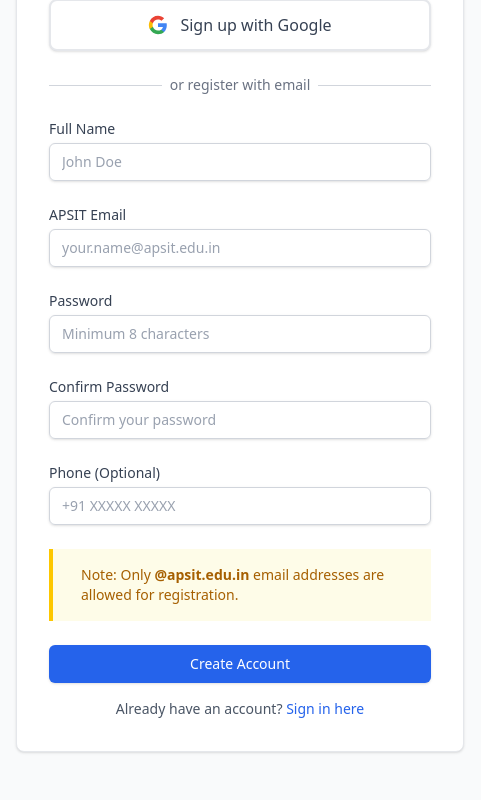
Scenario: Register page › shows validation errors on empty submit
(page scrolled)
Click the button "Create Account" at (240, 664), box [49,645,431,683]
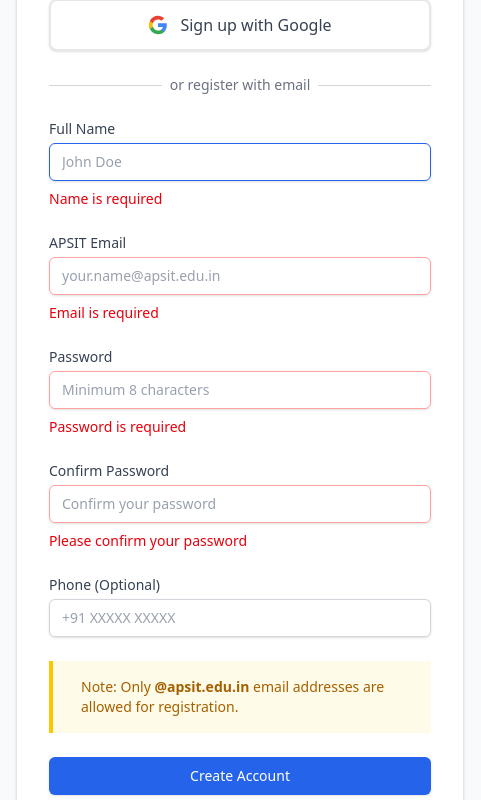
Now the text "Name is required" is shown, box [49,189,162,208]
Now the text "Email is required" is shown, box [49,303,159,322]
